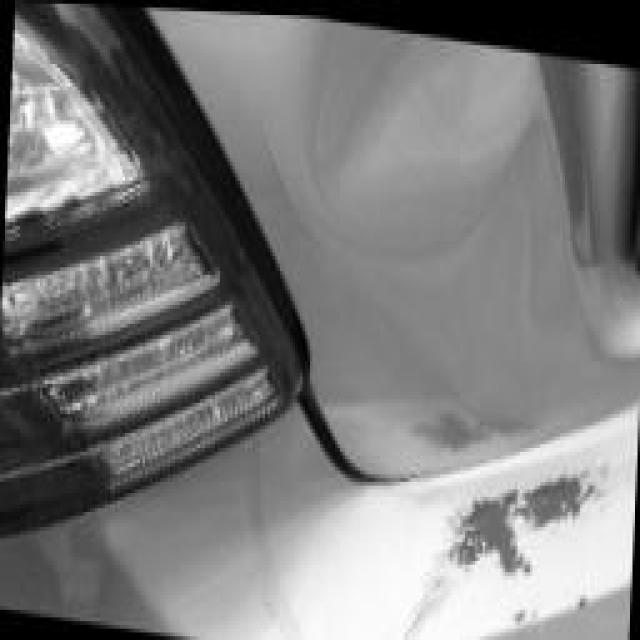Bumper: (400, 440, 632, 640)
Dickey: (238, 11, 640, 405)
